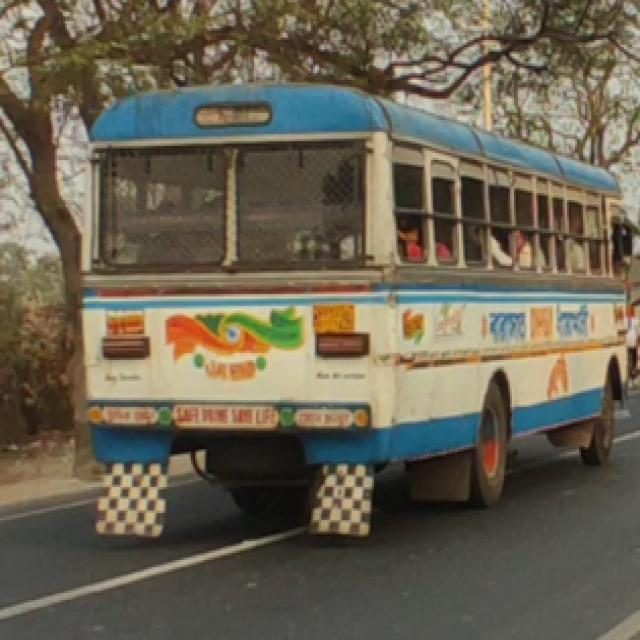bus: (52, 67, 640, 519)
